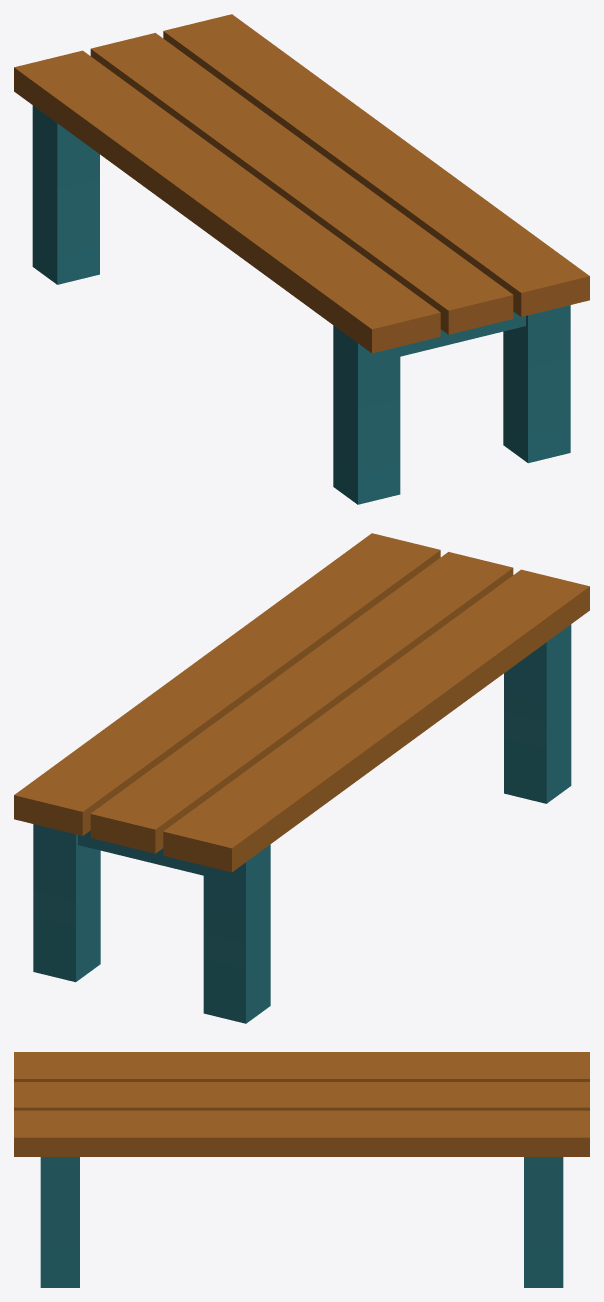
The model's file is Bench_1_E_4.fbx.
The picture shows the model from 3 angles, top to bottom: view 1: azimuth 30°, elevation 25°; view 2: azimuth 150°, elevation 25°; view 3: azimuth 270°, elevation 25°; orthographic projection. The views are drawn at different scales.
Visible parts, largest first — view 1: Bench_1_E_4; view 2: Bench_1_E_4; view 3: Bench_1_E_4.
Boxes of the visible parts, left/top/right/bottom form: Bench_1_E_4: left=14, top=14, right=589, bottom=504; Bench_1_E_4: left=14, top=533, right=589, bottom=1023; Bench_1_E_4: left=14, top=1052, right=589, bottom=1287.
Size of the model in its own units: 40.68 by 33.54 by 116.
